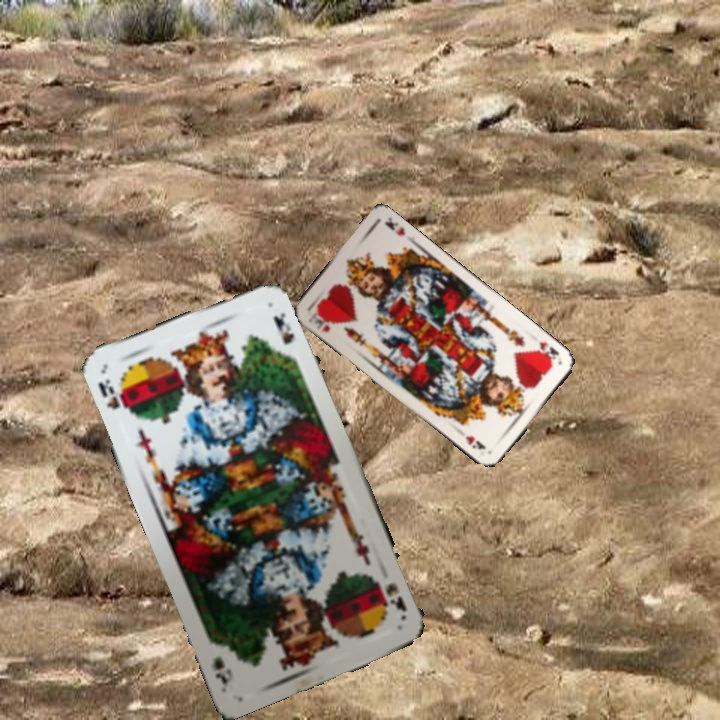HK: (533, 337, 562, 365), (313, 309, 333, 335)
SK: (94, 374, 134, 420), (373, 577, 410, 615)
